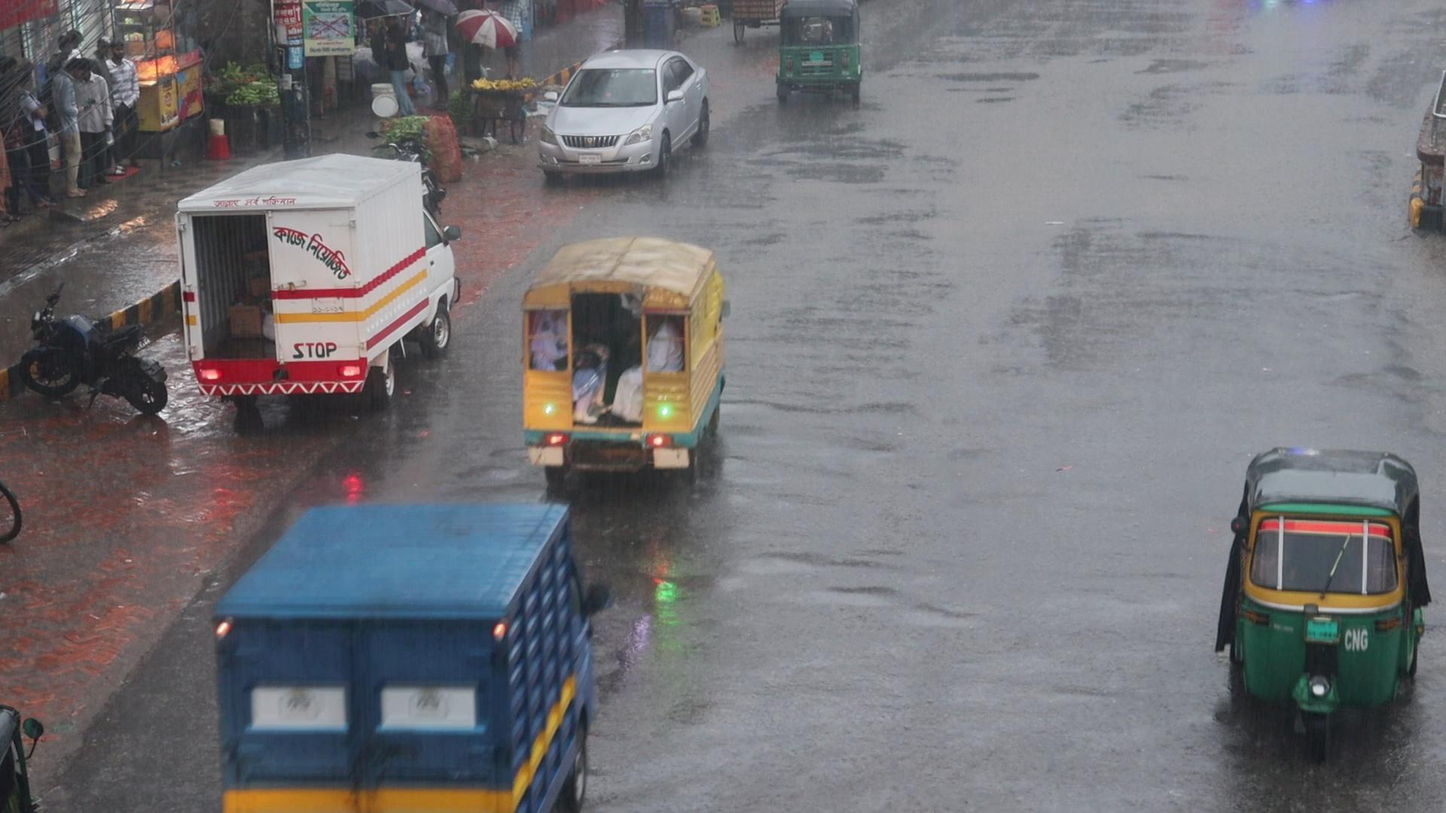Car: (534, 46, 714, 180)
Truck: (202, 495, 610, 813), (517, 229, 735, 489)
